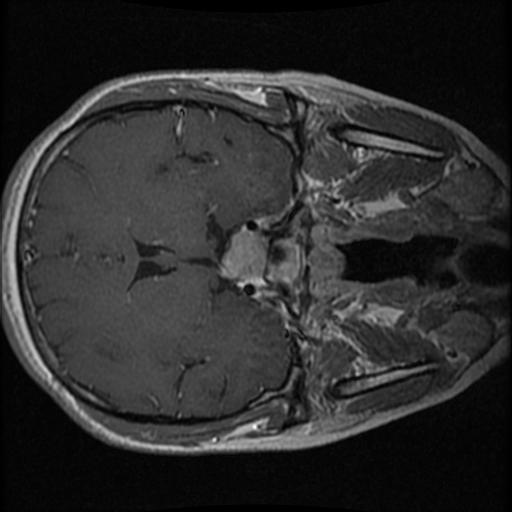pituitary tumour: (216, 229, 267, 287)
